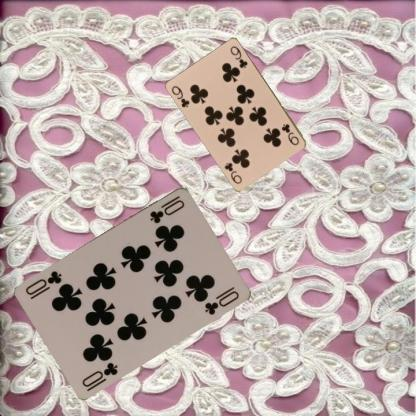10c: (79, 359, 120, 392), (147, 192, 186, 225)
9c: (279, 121, 301, 147), (170, 83, 192, 109)
